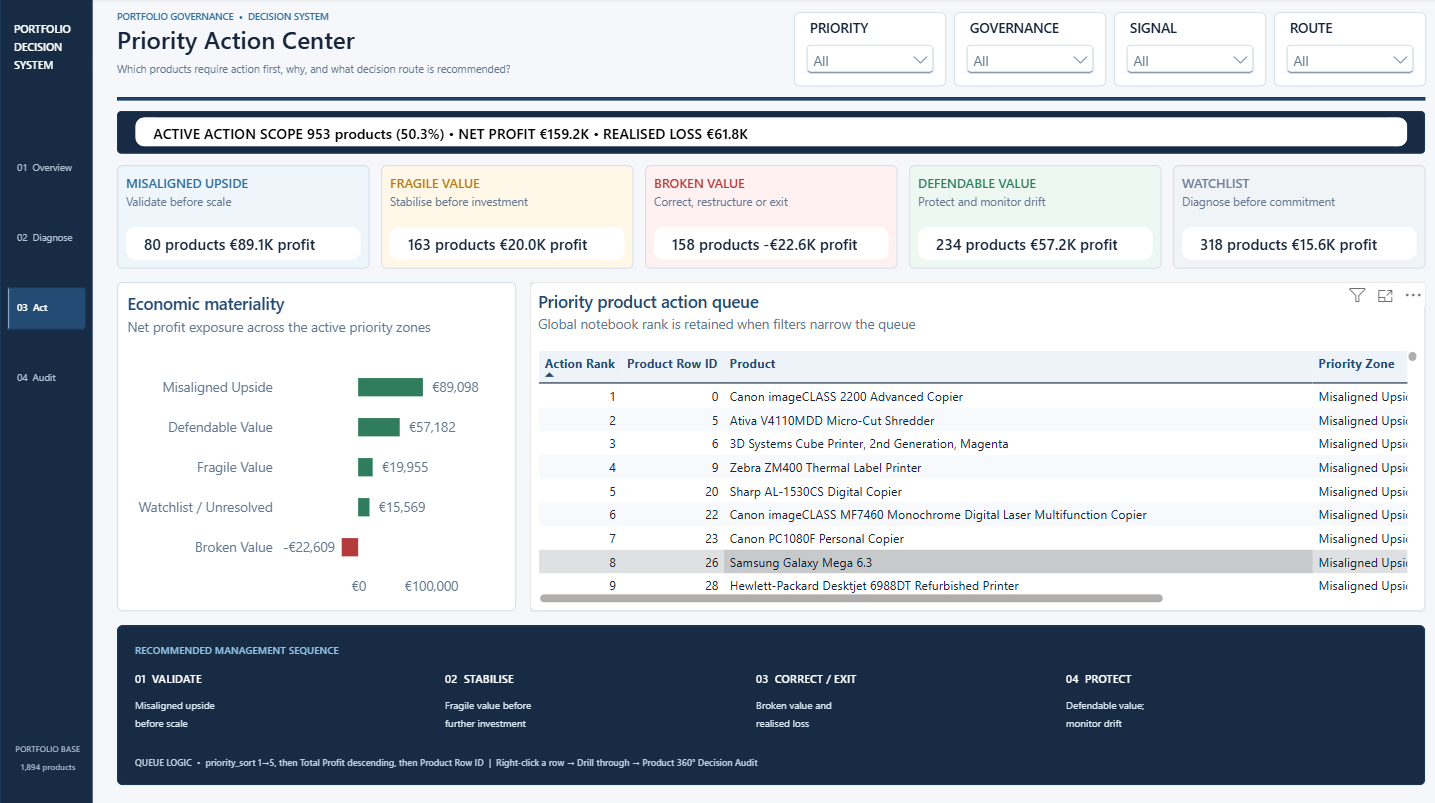

The dashboard page shown, as its layout file describes it:
{"tool":"powerbi","page":{"name":"03 Priority Action Center","canvas":[1280,720],"ordinal":2},"visuals":[{"type":"shape","box":[0,0,82,720],"z":1000},{"type":"textbox","box":[12,18,60,62],"z":2000},{"type":"textbox","box":[15,140,57,20],"z":3000},{"type":"textbox","box":[15,202,57,20],"z":4000},{"type":"shape","box":[6,256,70,38],"z":5000},{"type":"shape","box":[6,256,3,38],"z":6000},{"type":"textbox","box":[15,264,57,20],"z":7000},{"type":"textbox","box":[15,326,57,20],"z":8000},{"type":"textbox","box":[12,655,60,42],"z":9000},{"type":"textbox","box":[104,6,560,16],"z":10000},{"type":"textbox","box":[104,22,575,31],"z":11000},{"type":"textbox","box":[104,53,575,22],"z":12000},{"type":"slicer","fields":{"Values":["Actions.Priority Zone"]},"box":[704,12,135,66],"z":13000},{"type":"slicer","fields":{"Values":["Actions.Governance State"]},"box":[846,12,135,66],"z":14000},{"type":"slicer","fields":{"Values":["Actions.Primary Signal"]},"box":[988,12,135,66],"z":15000},{"type":"slicer","fields":{"Values":["Actions.Final Intervention"]},"box":[1130,12,135,66],"z":16000},{"type":"shape","box":[104,88,1160,3],"z":17000},{"type":"shape","box":[104,100,1160,38],"z":18000},{"type":"cardVisual","fields":{"Data":["Products.Action Scope Snapshot"]},"box":[118,104,1132,30],"z":19000},{"type":"cardVisual","title":"MISALIGNED UPSIDE","fields":{"Data":["Products.Misaligned Upside"]},"box":[104,148,224,92],"z":20000},{"type":"cardVisual","title":"FRAGILE VALUE","fields":{"Data":["Products.Fragile Value"]},"box":[338,148,224,92],"z":21000},{"type":"cardVisual","title":"BROKEN VALUE","fields":{"Data":["Products.Broken Value"]},"box":[572,148,224,92],"z":22000},{"type":"cardVisual","title":"DEFENDABLE VALUE","fields":{"Data":["Products.Defendable Value"]},"box":[806,148,224,92],"z":23000},{"type":"cardVisual","title":"WATCHLIST","fields":{"Data":["Products.Watchlist"]},"box":[1040,148,224,92],"z":24000},{"type":"barChart","title":"Economic materiality","fields":{"Category":["Actions.Priority Zone"],"Y":["Products.Portfolio Profit"]},"box":[104,252,354,292],"z":25000},{"type":"tableEx","title":"Priority product action queue","fields":{"Values":["Actions.Action Rank","Actions.Product Row ID","Actions.Product","Actions.Priority Zone","Actions.Total Profit","Actions.Loss Order %","Actions.Final Intervention"]},"box":[470,252,794,292],"z":26000},{"type":"shape","box":[104,556,1160,142],"z":27000},{"type":"textbox","box":[120,568,1128,17],"z":28000},{"type":"textbox","box":[120,594,250,20],"z":29000},{"type":"textbox","box":[120,617,250,34],"z":30000},{"type":"textbox","box":[395,594,250,20],"z":31000},{"type":"textbox","box":[395,617,250,34],"z":32000},{"type":"textbox","box":[670,594,250,20],"z":33000},{"type":"textbox","box":[670,617,250,34],"z":34000},{"type":"textbox","box":[945,594,250,20],"z":35000},{"type":"textbox","box":[945,617,250,34],"z":36000},{"type":"textbox","box":[120,668,1128,17],"z":37000}]}

Visuals, with their boxes on the page's 1280x720 design canvas (x1, y1, x2, y2). These are canvas units, not pixel positions in the 1435x803 screenshot, which may show the page scaled, cropped or inside an application window:
shape: rect(0, 0, 82, 720)
textbox: rect(12, 18, 72, 80)
textbox: rect(15, 140, 72, 160)
textbox: rect(15, 202, 72, 222)
shape: rect(6, 256, 76, 294)
shape: rect(6, 256, 9, 294)
textbox: rect(15, 264, 72, 284)
textbox: rect(15, 326, 72, 346)
textbox: rect(12, 655, 72, 697)
textbox: rect(104, 6, 664, 22)
textbox: rect(104, 22, 679, 53)
textbox: rect(104, 53, 679, 75)
slicer - Actions.Priority Zone: rect(704, 12, 839, 78)
slicer - Actions.Governance State: rect(846, 12, 981, 78)
slicer - Actions.Primary Signal: rect(988, 12, 1123, 78)
slicer - Actions.Final Intervention: rect(1130, 12, 1265, 78)
shape: rect(104, 88, 1264, 91)
shape: rect(104, 100, 1264, 138)
cardVisual - Products.Action Scope Snapshot: rect(118, 104, 1250, 134)
"MISALIGNED UPSIDE" cardVisual: rect(104, 148, 328, 240)
"FRAGILE VALUE" cardVisual: rect(338, 148, 562, 240)
"BROKEN VALUE" cardVisual: rect(572, 148, 796, 240)
"DEFENDABLE VALUE" cardVisual: rect(806, 148, 1030, 240)
"WATCHLIST" cardVisual: rect(1040, 148, 1264, 240)
"Economic materiality" barChart: rect(104, 252, 458, 544)
"Priority product action queue" tableEx: rect(470, 252, 1264, 544)
shape: rect(104, 556, 1264, 698)
textbox: rect(120, 568, 1248, 585)
textbox: rect(120, 594, 370, 614)
textbox: rect(120, 617, 370, 651)
textbox: rect(395, 594, 645, 614)
textbox: rect(395, 617, 645, 651)
textbox: rect(670, 594, 920, 614)
textbox: rect(670, 617, 920, 651)
textbox: rect(945, 594, 1195, 614)
textbox: rect(945, 617, 1195, 651)
textbox: rect(120, 668, 1248, 685)
